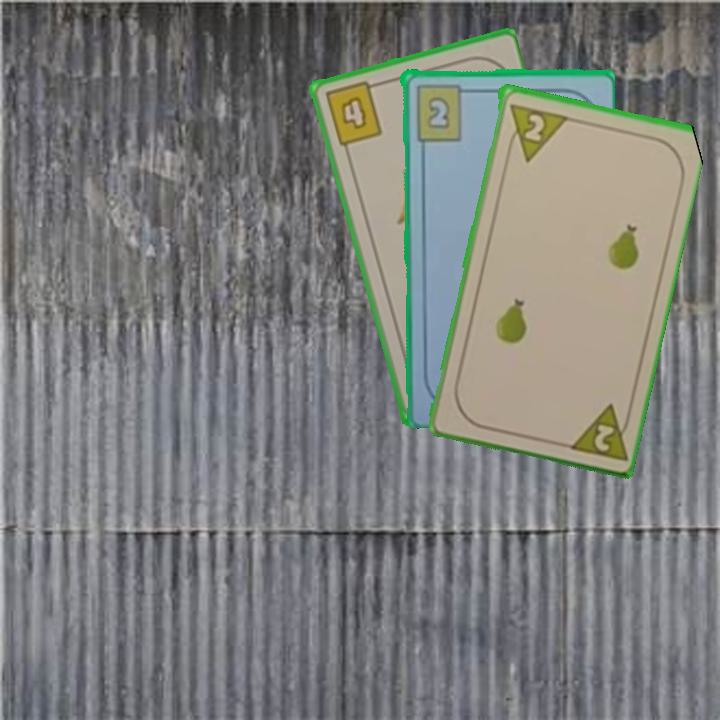2b: (412, 81, 473, 142)
2p: (562, 399, 635, 463), (501, 99, 568, 164)
4b: (321, 78, 385, 149)
